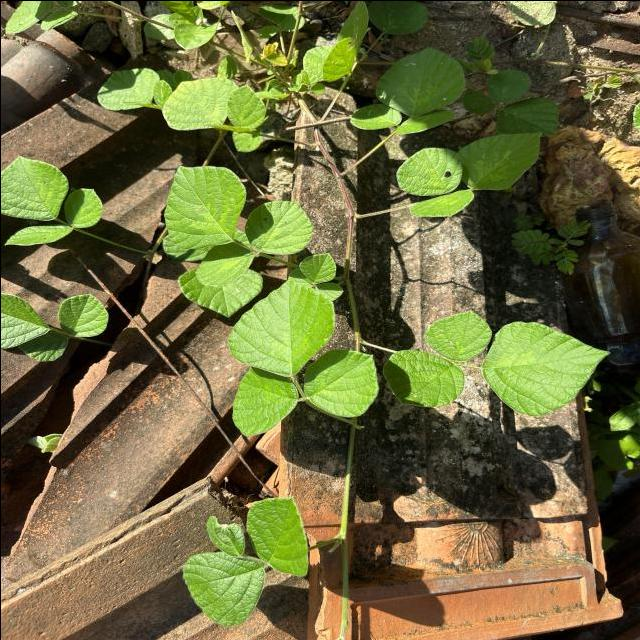Pseudarthria viscida: (379, 306, 612, 418), (226, 274, 382, 438), (162, 163, 313, 287), (393, 129, 542, 218), (0, 154, 104, 246)
